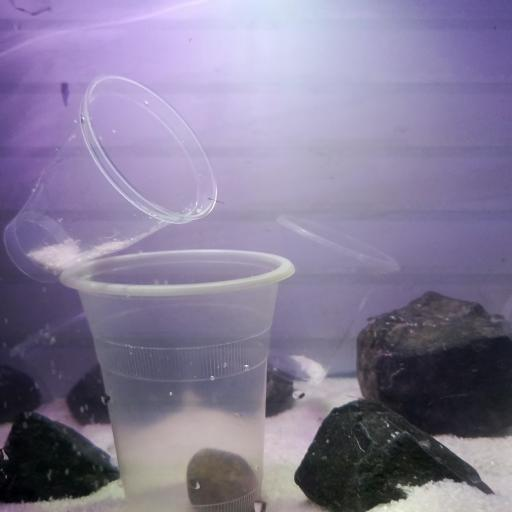plastic_cup: (57, 247, 296, 512), (4, 73, 218, 287), (262, 211, 400, 420), (10, 299, 137, 460)
